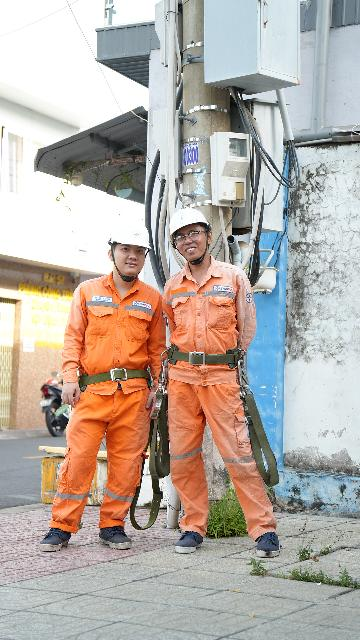harness: (157, 335, 248, 374), (72, 362, 157, 391)
helmet: (149, 205, 213, 236), (100, 222, 153, 256)
shoes: (83, 508, 138, 556), (246, 523, 291, 563), (159, 526, 208, 560), (30, 529, 81, 558)
